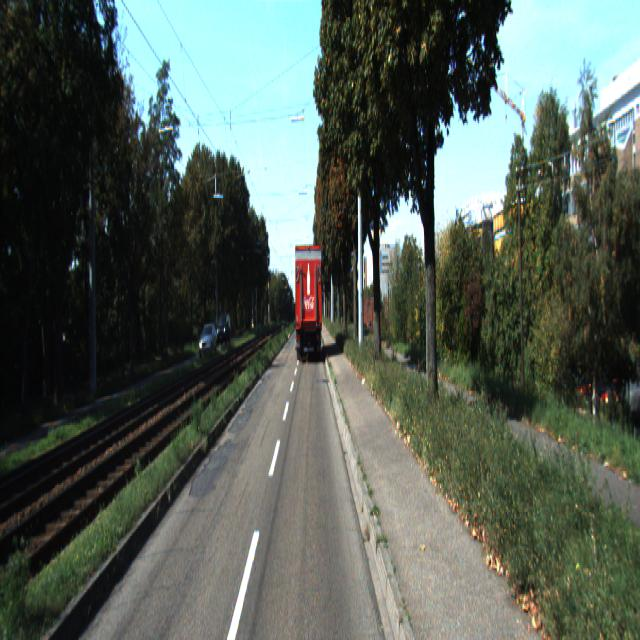Car: (293, 240, 323, 362), (198, 323, 218, 361)
